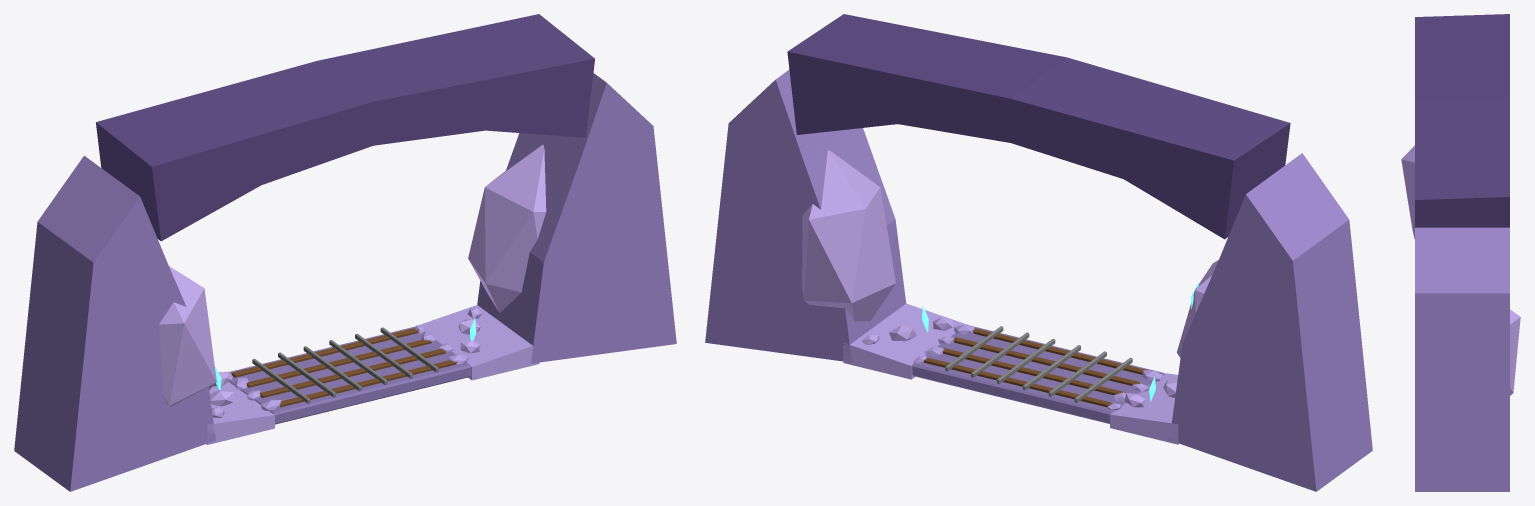
The model's file is crystal_cavern_platform.glb.
The picture shows the model from 3 angles, left to right: view 1: azimuth 30°, elevation 25°; view 2: azimuth 150°, elevation 25°; view 3: azimuth 270°, elevation 25°; orthographic projection. The views are drawn at different scales.
Visible parts, largest first — view 1: GEO_wall, GEO_ceiling, GEO_wall_alt, GEO_ground, GEO_ground_alt, GEO_wood, GEO_rail; view 2: GEO_wall, GEO_ceiling, GEO_wall_alt, GEO_ground_alt, GEO_ground, GEO_wood, GEO_rail; view 3: GEO_wall, GEO_ceiling, GEO_wall_alt.
Part boxes in pixels (box(x1,y1,x2,y2)): GEO_wall: box(14, 73, 676, 491); GEO_ceiling: box(96, 14, 594, 241); GEO_wall_alt: box(159, 144, 546, 417); GEO_ground: box(229, 326, 471, 424); GEO_ground_alt: box(206, 305, 539, 444); GEO_wood: box(231, 328, 457, 407); GEO_rail: box(252, 327, 438, 403); GEO_wall: box(705, 70, 1372, 491); GEO_ceiling: box(787, 14, 1290, 239); GEO_wall_alt: box(802, 150, 1218, 407); GEO_ground_alt: box(843, 303, 1178, 444); GEO_ground: box(912, 325, 1165, 423); GEO_wood: box(924, 328, 1146, 407); GEO_rail: box(945, 326, 1132, 402); GEO_wall: box(1415, 227, 1509, 491); GEO_ceiling: box(1415, 14, 1509, 227); GEO_wall_alt: box(1401, 145, 1520, 395).
Size of the model in its own units: 26 by 12.95 by 5.24.
